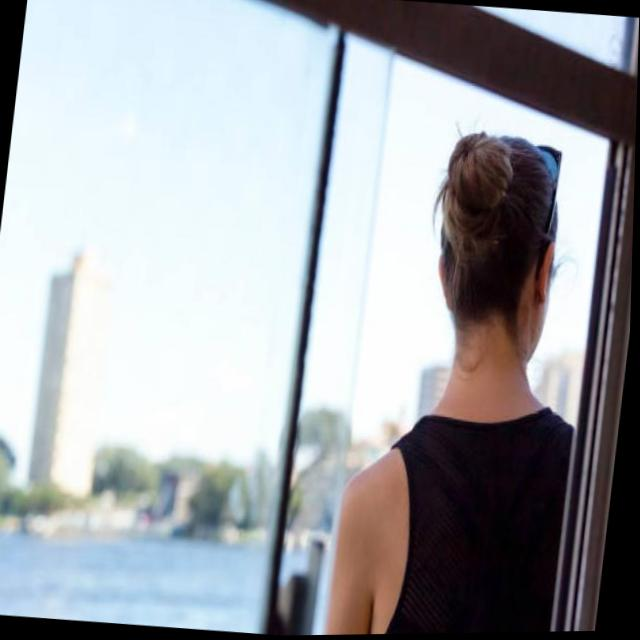no helmet: (395, 108, 602, 417)
